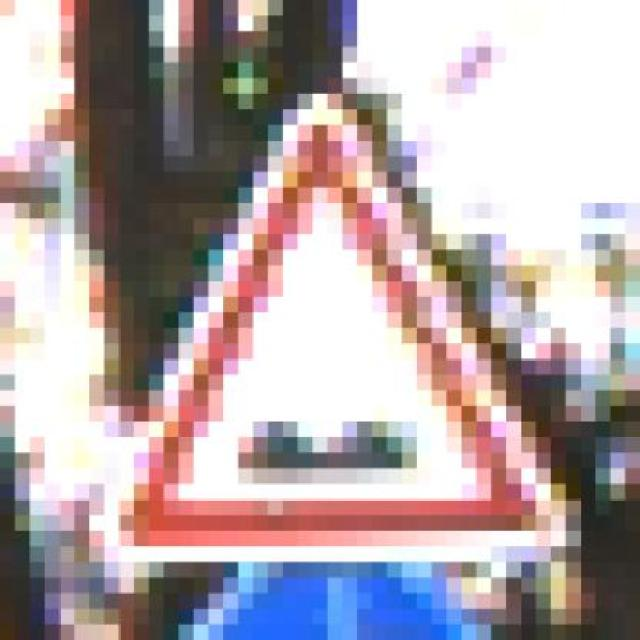Uneven Road: (104, 78, 581, 562)
